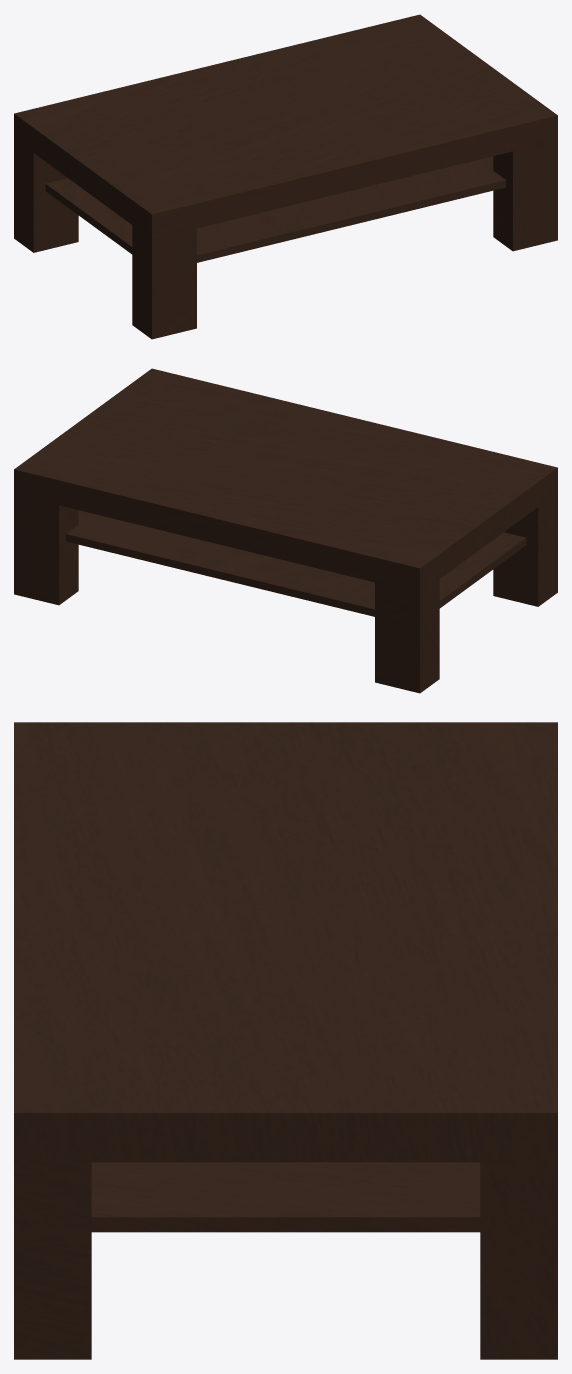
Rendered from Table.fbx.
3 renders of one model, top to bottom at view 1: azimuth 30°, elevation 25°; view 2: azimuth 150°, elevation 25°; view 3: azimuth 270°, elevation 25°, orthographic. The views are drawn at different scales.
Parts seen in each view (by area): view 1: Table; view 2: Table; view 3: Table.
Boxes of the visible parts, box(x1,y1,x2,y2) form: Table: box(14, 14, 557, 339); Table: box(14, 368, 557, 693); Table: box(14, 722, 557, 1359).
Bounding box in the file's own units: 170 × 50 × 100.
1 material, 1 textured.
